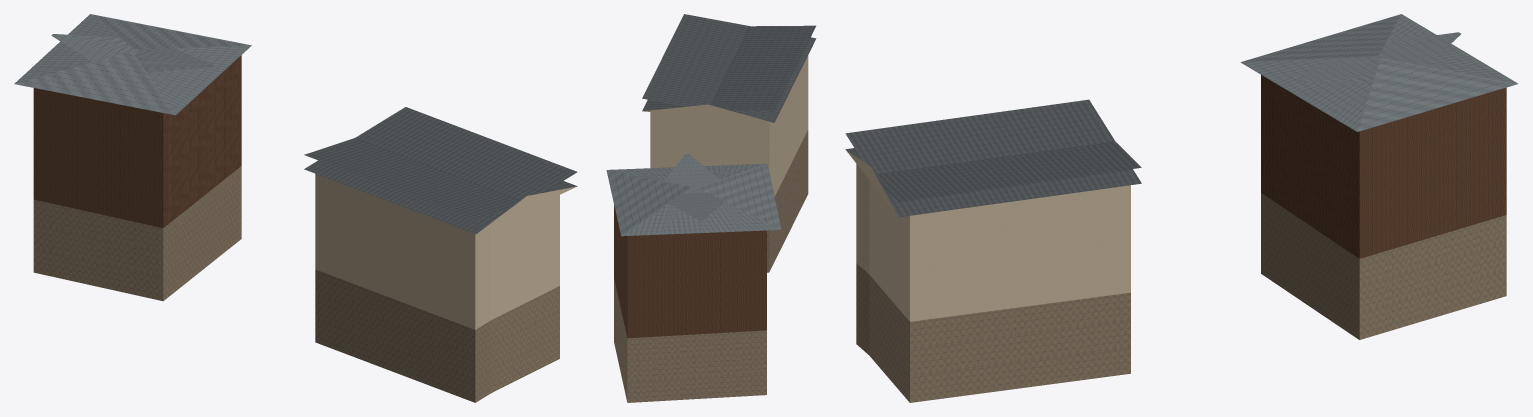
The model's file is bld_c38_35_297.gltf.
The picture shows the model from 3 angles, left to right: view 1: azimuth 30°, elevation 25°; view 2: azimuth 150°, elevation 25°; view 3: azimuth 270°, elevation 25°; orthographic projection. The views are drawn at different scales.
Visible parts, largest first — view 1: bld_c38_35_297; view 2: bld_c38_35_297; view 3: bld_c38_35_297.
Part boxes in pixels (<box>): bld_c38_35_297: <box>14,14,577,402</box>; bld_c38_35_297: <box>606,14,816,402</box>; bld_c38_35_297: <box>845,14,1518,402</box>.
Bounding box in the file's own units: 24.64 × 14.4 × 38.38.
6 materials, 6 textured.
